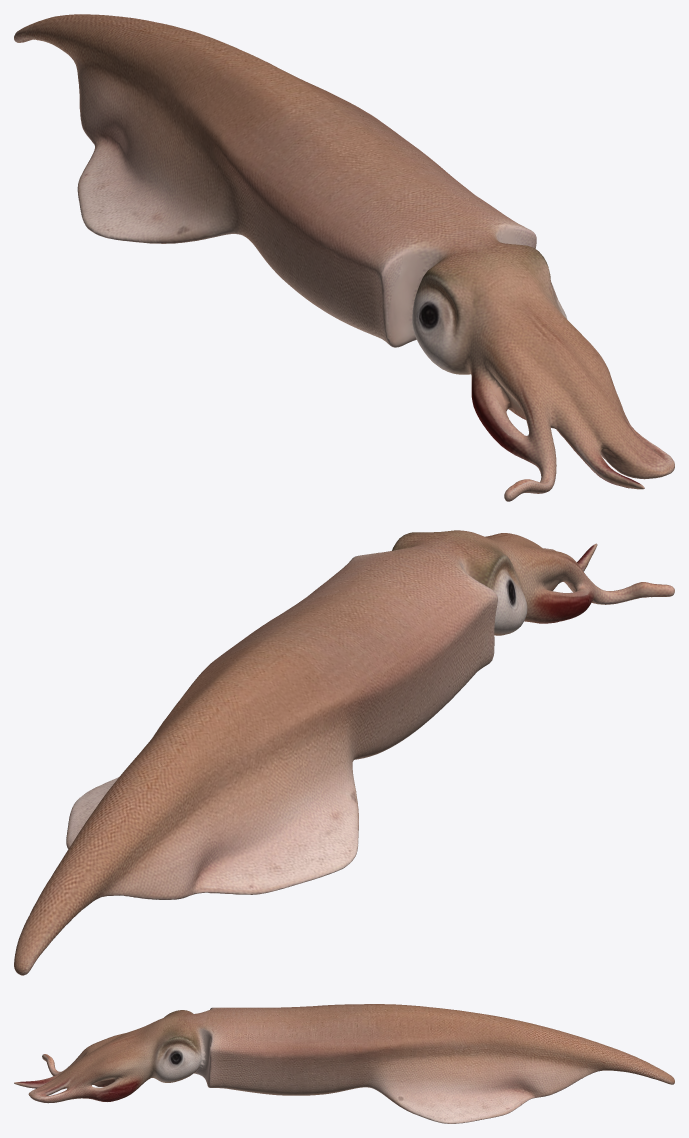
File: yariika-825227417734.glb
3 views of the same model, one above another, from view 1: azimuth 30°, elevation 25°; view 2: azimuth 150°, elevation 25°; view 3: azimuth 270°, elevation 25° (orthographic). The views are drawn at different scales.
Bounding box in the file's own units: 0.5063 × 0.2679 × 1.9.
1 material, 1 textured.
